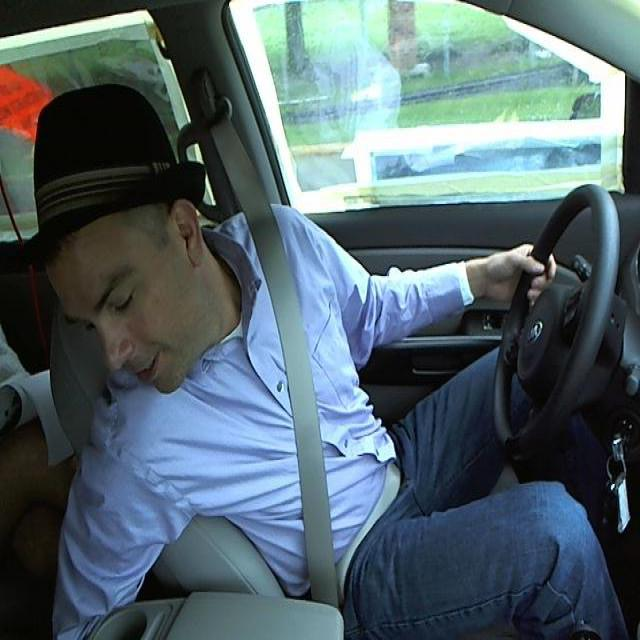seatbelt: (247, 212, 385, 589)
